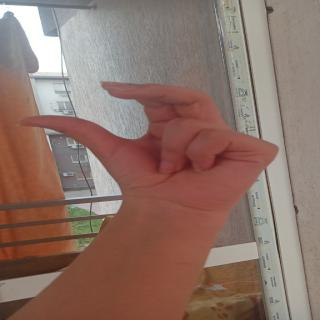DHELL: (11, 73, 291, 184)
